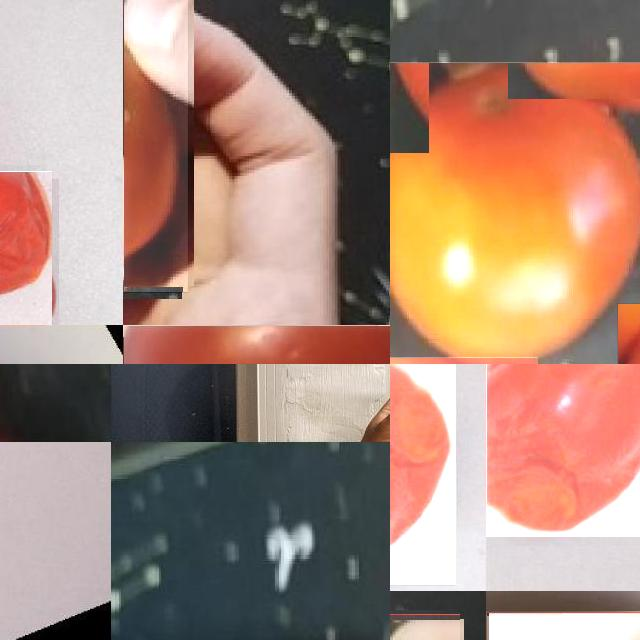Fresh Tomato: (390, 62, 640, 364)
Rotten Tomato: (486, 364, 640, 537), (123, 0, 188, 292), (390, 364, 456, 585), (0, 171, 52, 325)
